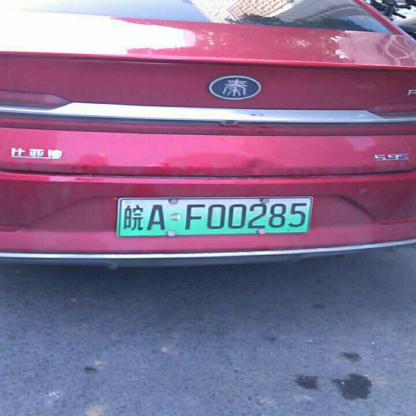lp: (118, 196, 314, 235)
